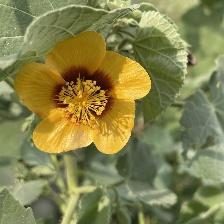indian mallow: (15, 32, 155, 159)
